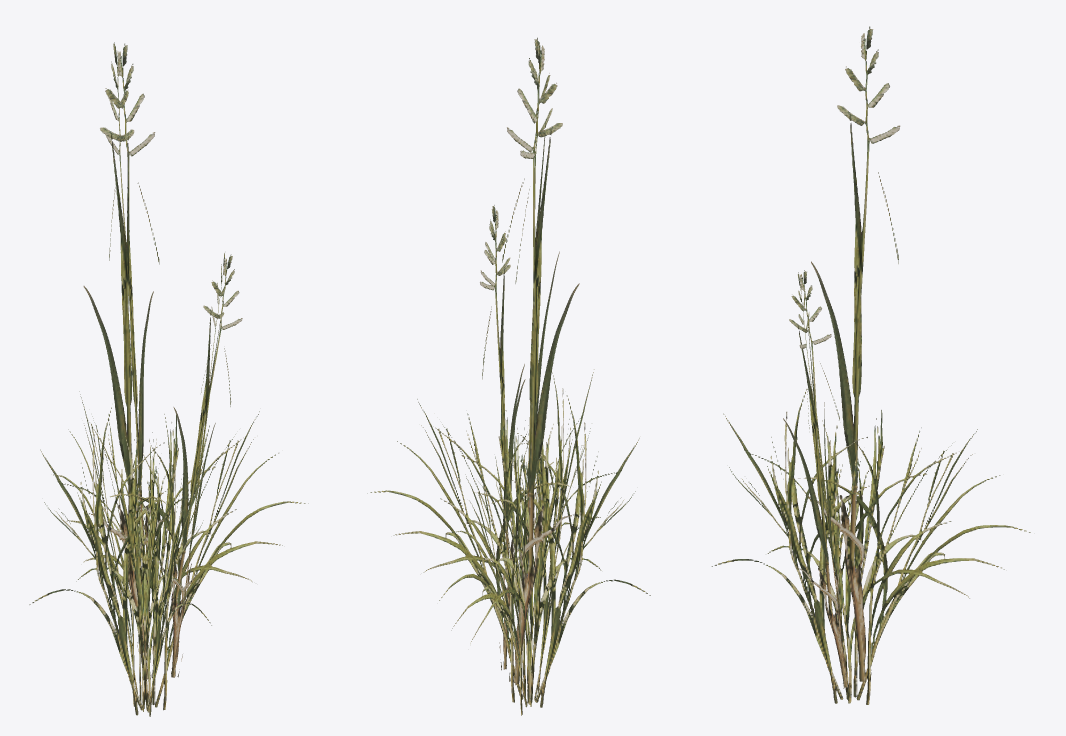
File: SM_FOL_Grass_Tall_02_A.fbx
3 renders of one model, left to right at view 1: azimuth 30°, elevation 25°; view 2: azimuth 150°, elevation 25°; view 3: azimuth 270°, elevation 25°, orthographic.
Visible parts, largest first — view 1: SM_FOL_Grass_Tall_02_A; view 2: SM_FOL_Grass_Tall_02_A; view 3: SM_FOL_Grass_Tall_02_A.
Part boxes in pixels (x1,y1,x2,y2): SM_FOL_Grass_Tall_02_A: (29, 42, 308, 716); SM_FOL_Grass_Tall_02_A: (367, 37, 650, 715); SM_FOL_Grass_Tall_02_A: (711, 26, 1030, 704).
Size of the model in its own units: 52.73 by 111 by 52.73.
Materials: 1 (1 with a texture image).
